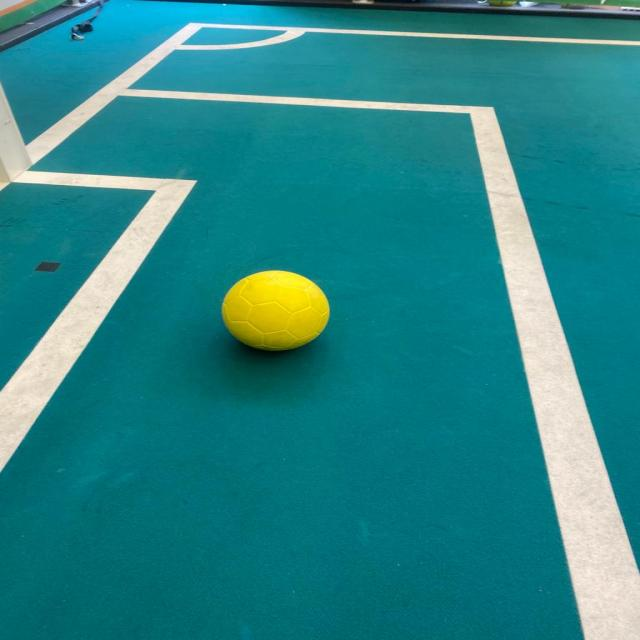ball: (213, 255, 341, 359)
